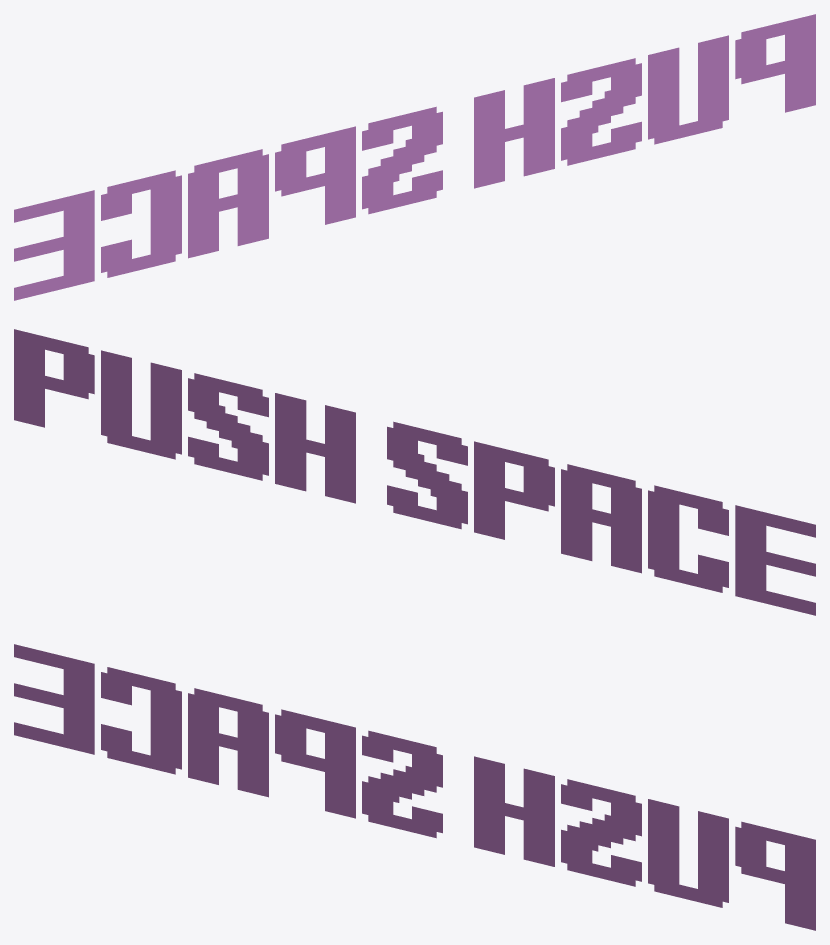
Rendered from pushspace.obj.
3 views of the same model, one above another, from view 1: azimuth 30°, elevation 25°; view 2: azimuth 150°, elevation 25°; view 3: azimuth 330°, elevation 25° (orthographic).
Parts seen in each view (by area): view 1: テキスト; view 2: テキスト; view 3: テキスト.
Part boxes in pixels (left/top/right/bottom): テキスト: left=14, top=14, right=815, bottom=300; テキスト: left=14, top=329, right=815, bottom=615; テキスト: left=14, top=644, right=815, bottom=930.
Size of the model in its own units: 6.45 by 0.7 by 0.
Materials: 1 (1 with a texture image).
